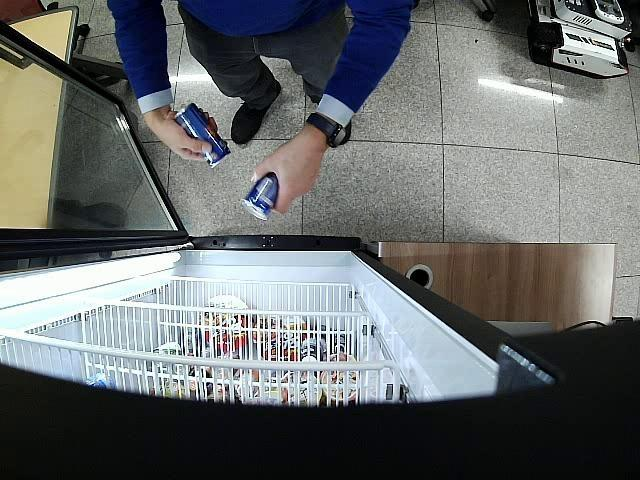16_hot6: (174, 102, 232, 168), (241, 175, 278, 221)
